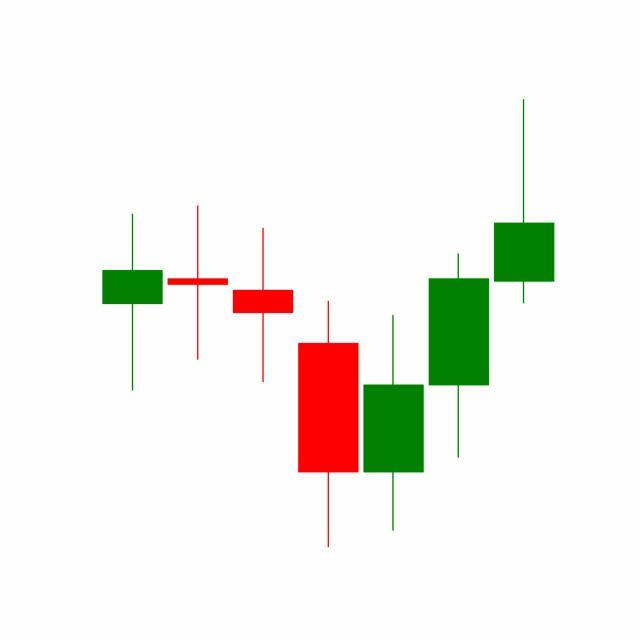Hikkake Pattern: (165, 202, 492, 549)
